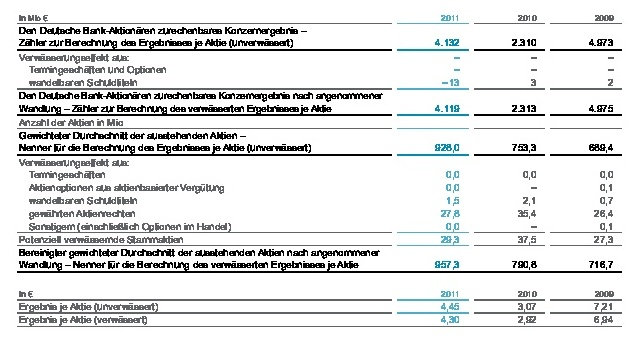table: (0, 0, 642, 347)
